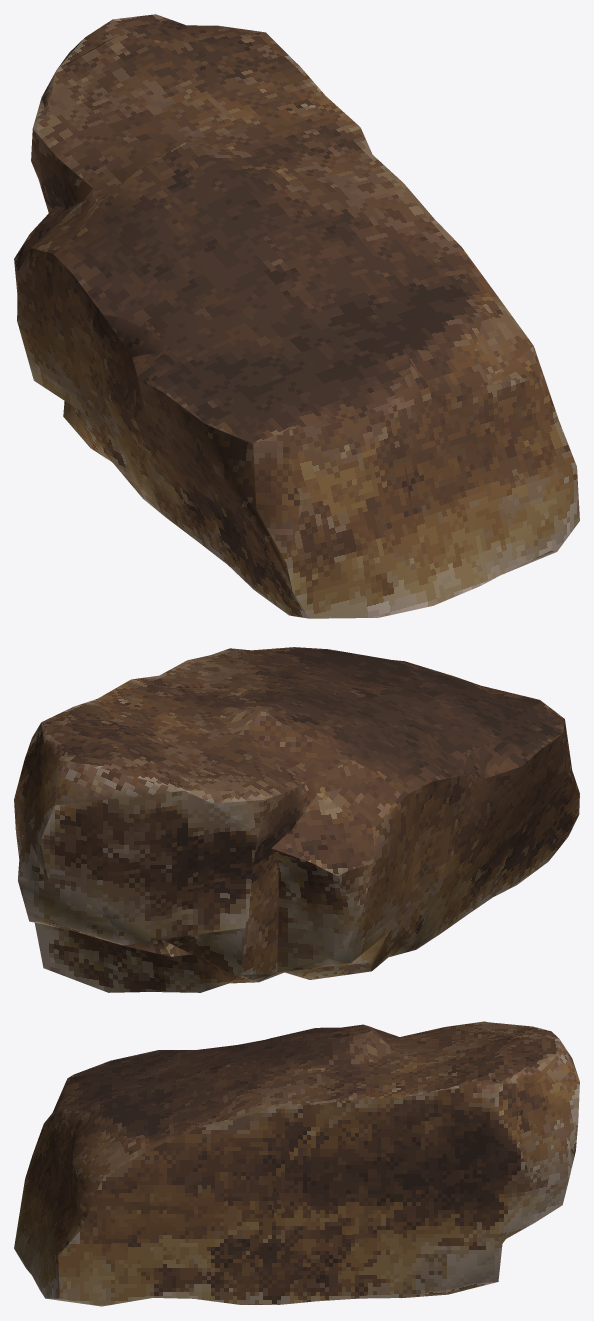
File: rock_07.glb
3 views of the same model, one above another, from view 1: azimuth 30°, elevation 25°; view 2: azimuth 150°, elevation 25°; view 3: azimuth 270°, elevation 25° (orthographic). The views are drawn at different scales.
Visible parts, largest first — view 1: mesh; view 2: mesh; view 3: mesh.
Boxes of the visible parts, <box> form: mesh: <box>14,14,579,618</box>; mesh: <box>14,647,579,992</box>; mesh: <box>14,1021,579,1306</box>.
Bounding box in the file's own units: 0.1699 × 0.1438 × 0.3197.
1 material, 1 textured.
